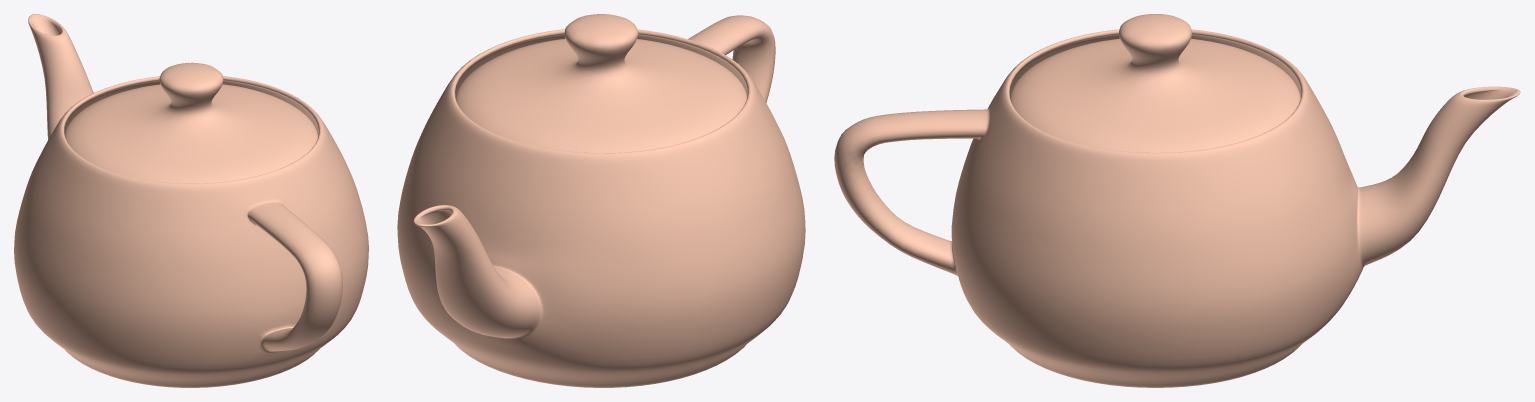
Rendered from teapot.605.obj.
3 renders of one model, left to right at view 1: azimuth 30°, elevation 25°; view 2: azimuth 150°, elevation 25°; view 3: azimuth 270°, elevation 25°, orthographic. The views are drawn at different scales.
Bounding box in the file's own units: 1.64 × 1.35 × 2.76.
